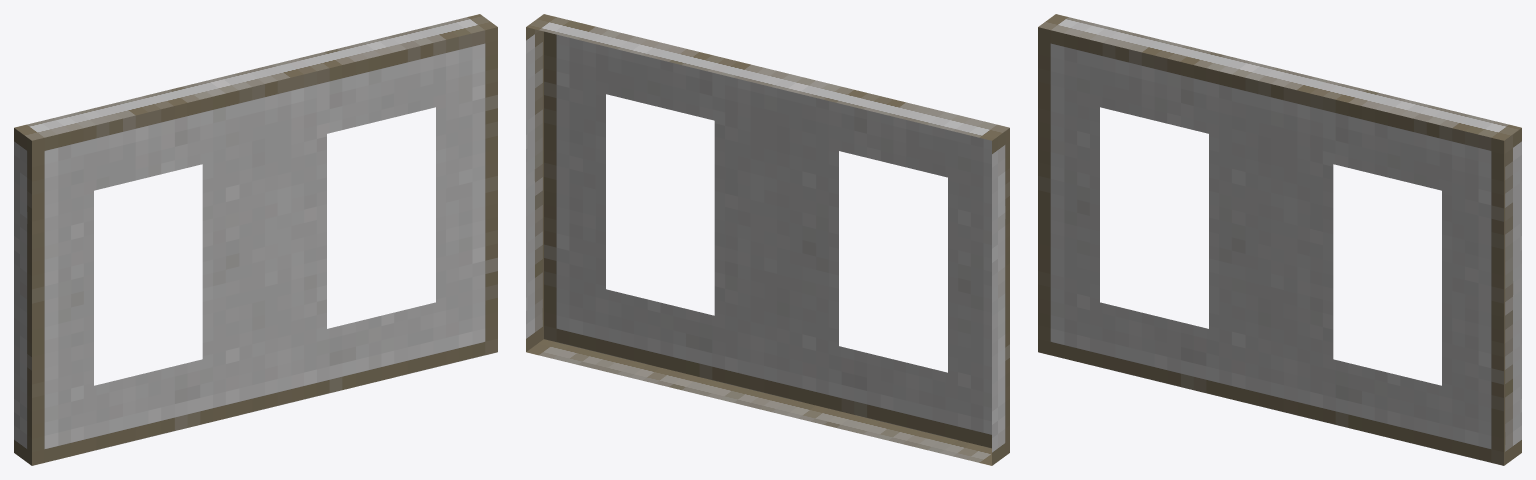
File: SwitchBoard1.glb
3 views of the same model, side by side, from view 1: azimuth 30°, elevation 25°; view 2: azimuth 150°, elevation 25°; view 3: azimuth 330°, elevation 25° (orthographic).
Visible parts, largest first — view 1: SwitchBoard1; view 2: SwitchBoard1; view 3: SwitchBoard1.
Part boxes in pixels (<box>): SwitchBoard1: <box>14,14,497,465</box>; SwitchBoard1: <box>526,14,1009,465</box>; SwitchBoard1: <box>1038,14,1521,465</box>.
Bounding box in the file's own units: 0.15 × 0.1 × 0.01.
1 material, 1 textured.
